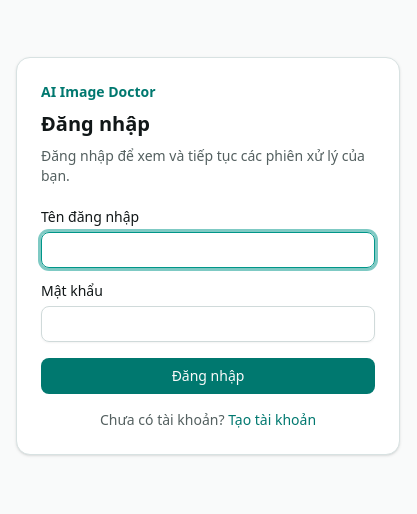
Test: login form › shows the server error and keeps the form
Type "alice" into the field labelled "Tên đăng nhập" at (208, 250), box [41, 232, 375, 268]
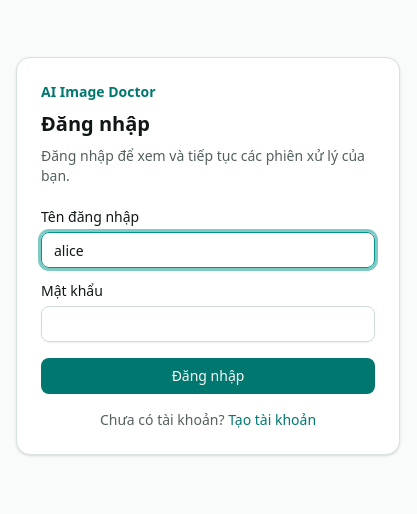
Type "wrong-password" into the password field labelled "Mật khẩu" at (208, 324), box [41, 306, 375, 342]
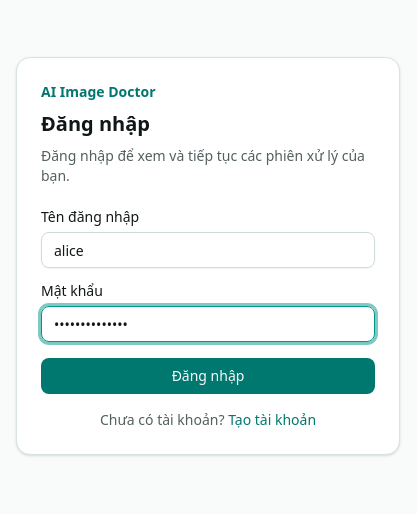
Click the button "Đăng nhập" at (208, 376), box [41, 358, 375, 394]
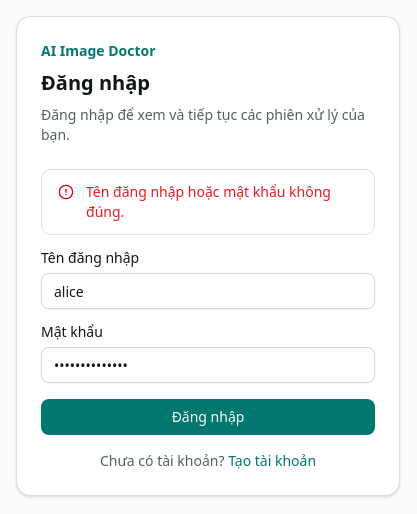
expect the button "Đăng nhập" is enabled: met, box [41, 399, 375, 435]
expect the message reads "Tên đăng nhập hoặc mật khẩu không đúng.": met, box [86, 182, 331, 221]
